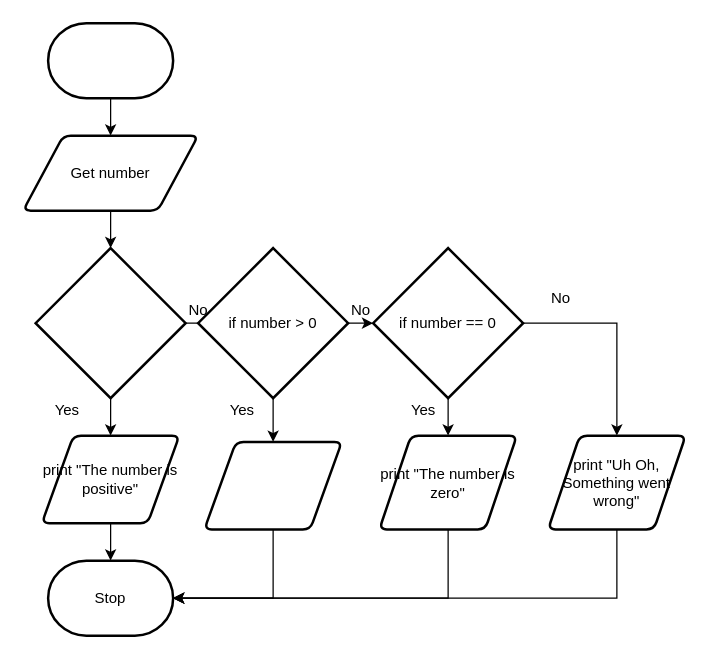
Some shapes in this 708 by 658 pixel diagram are drawn without their labels. The shapes that lost their labels are listed below. From the top down, each one's centre as x and y in pixels, then its label:
(x=110, y=60): Start
(x=110, y=322): if number < 0
(x=272, y=485): print "The number is negative"
